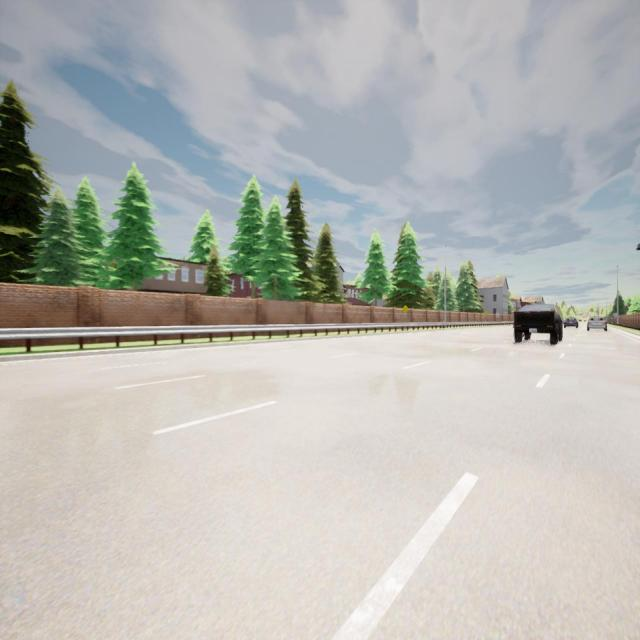Vehicle: (513, 304, 563, 344), (587, 316, 607, 331), (564, 317, 578, 328), (578, 319, 582, 322)
